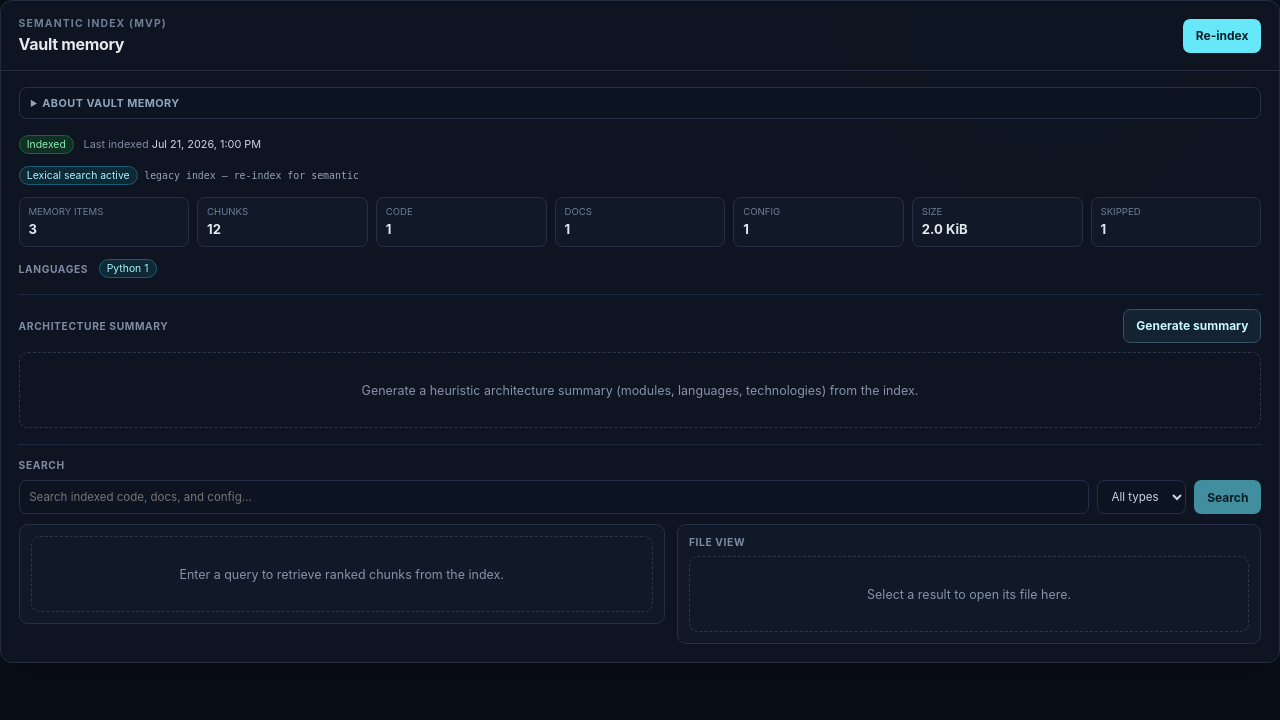
Test: VaultIndexPanel › shows a no-results empty state and suggests refining the query
In the search field named "Vault search query": (554, 497) [19,480,1089,514], type "nonexistent-symbol"
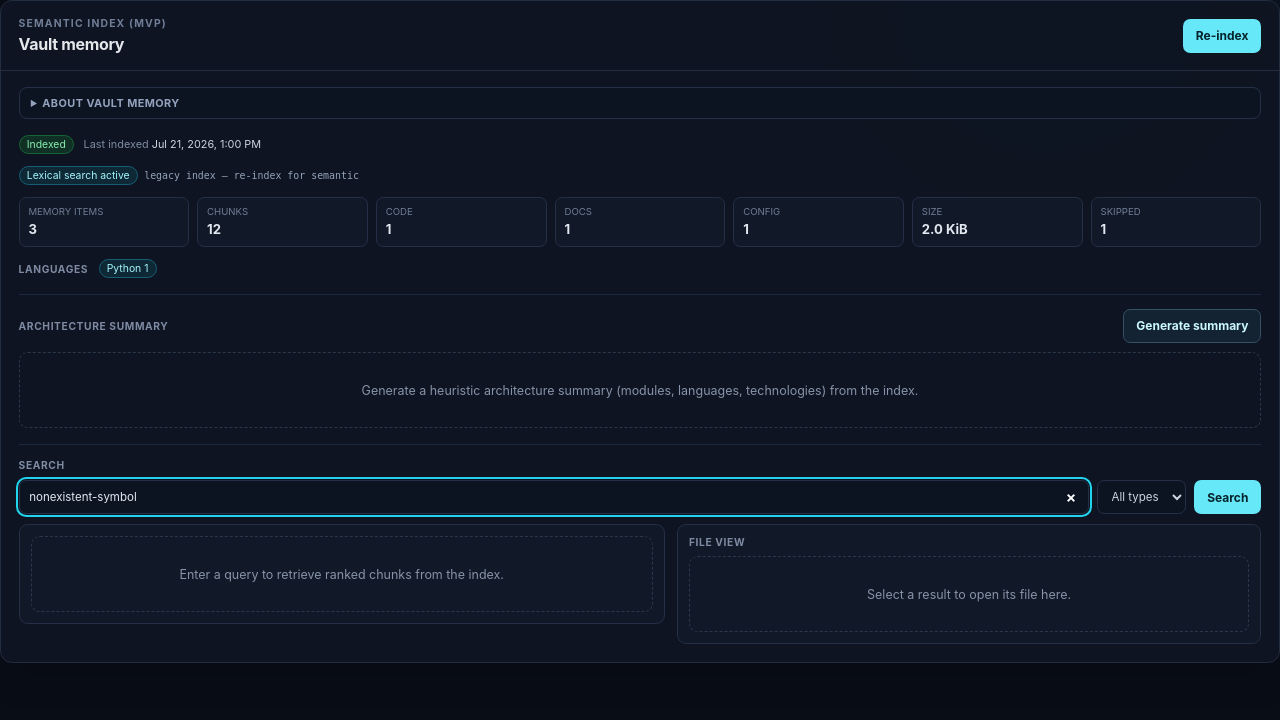
Click the button "Search": (1228, 497) [1194,480,1261,514]
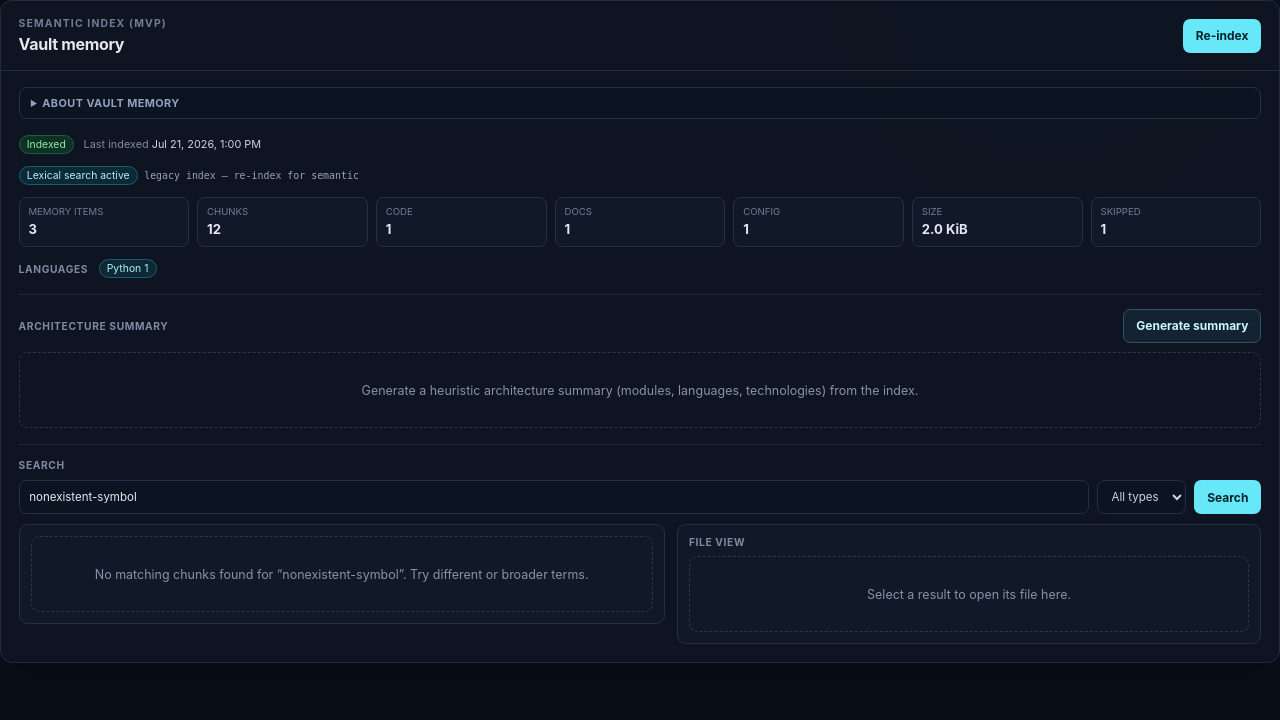
Expected: the text "No matching chunks found" is shown, [95,567,253,582]
